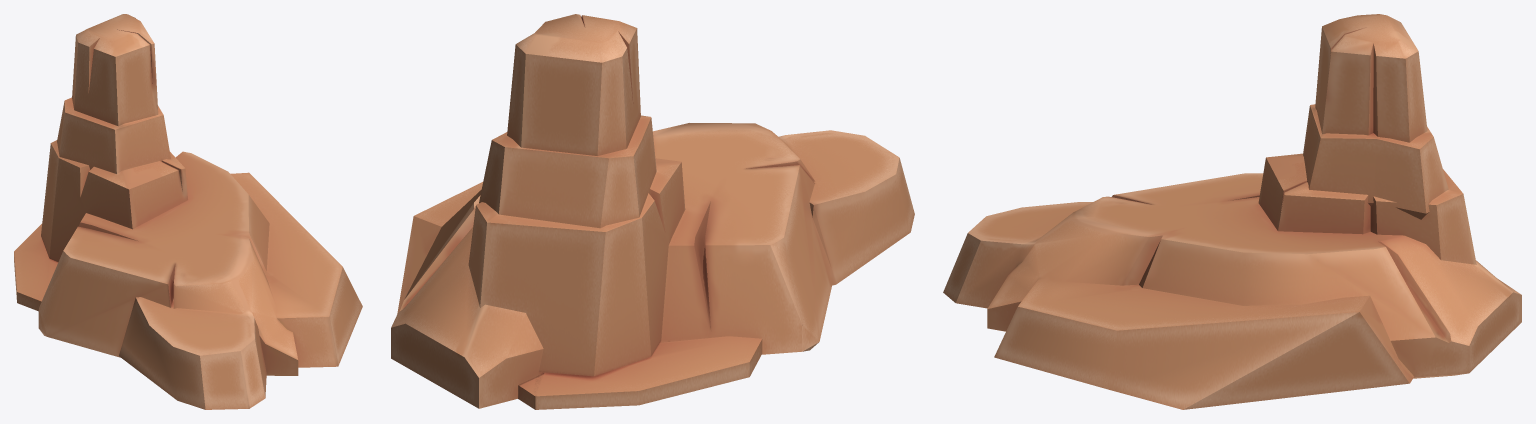
The model's file is rock_8.glb.
The picture shows the model from 3 angles, left to right: view 1: azimuth 30°, elevation 25°; view 2: azimuth 150°, elevation 25°; view 3: azimuth 270°, elevation 25°; orthographic projection. The views are drawn at different scales.
Parts seen in each view (by area): view 1: Rock_8; view 2: Rock_8; view 3: Rock_8.
Boxes of the visible parts, x1,y1,x2,y2 form: Rock_8: (14,14,362,409); Rock_8: (391,14,914,409); Rock_8: (943,14,1521,409).
Bounding box in the file's own units: 4.89 × 4.24 × 7.52.
Materials: 1 (1 with a texture image).
